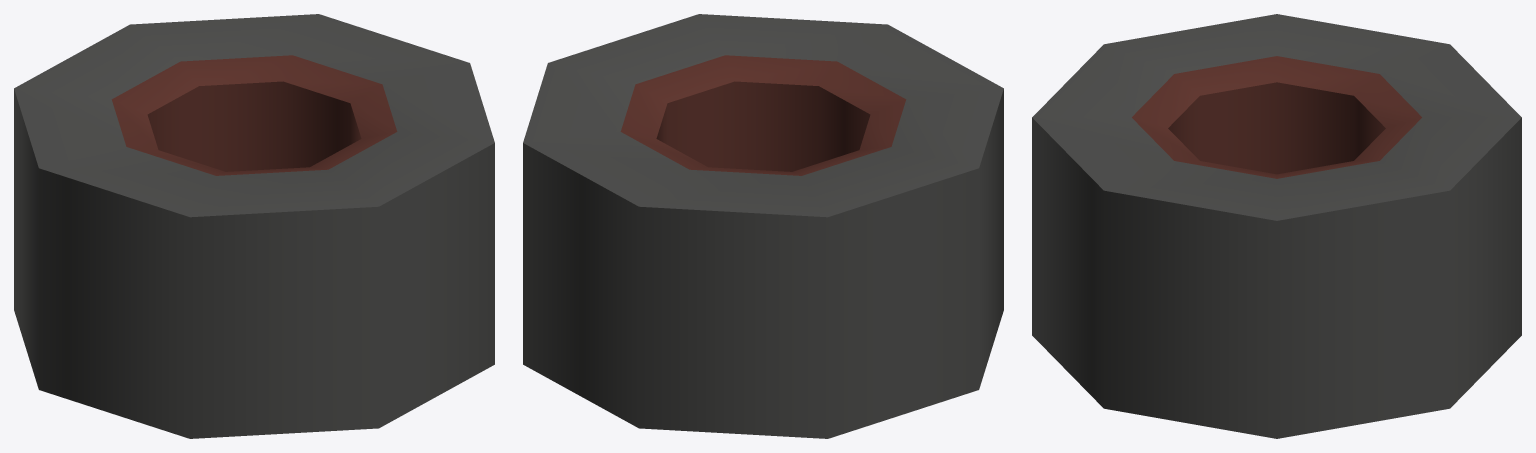
File: Duct_Tape.obj
The picture shows the model from 3 angles, left to right: view 1: azimuth 30°, elevation 25°; view 2: azimuth 150°, elevation 25°; view 3: azimuth 270°, elevation 25°; orthographic projection.
Visible parts, largest first — view 1: Circle; view 2: Circle; view 3: Circle.
Part boxes in pixels (x1,y1,x2,y2): Circle: [14, 14, 494, 438]; Circle: [523, 14, 1003, 438]; Circle: [1032, 14, 1521, 438].
Bounding box in the file's own units: 0.4 × 0.1965 × 0.4.
Materials: 2 (2 with a texture image).
